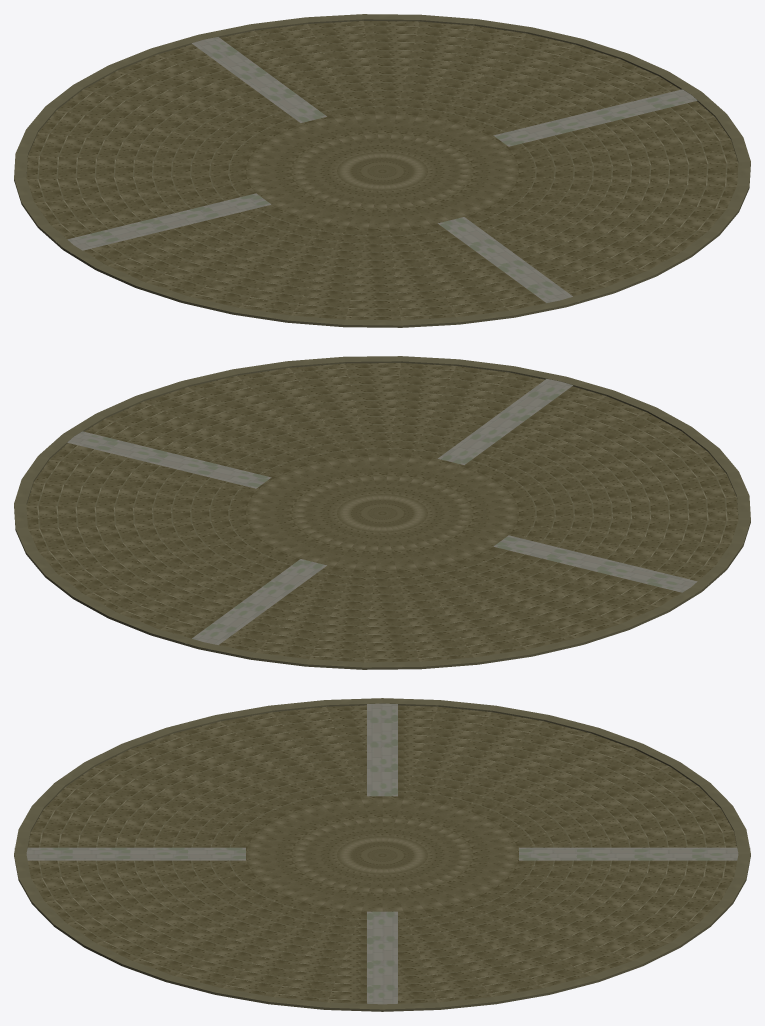
The model's file is city_small_base.glb.
The picture shows the model from 3 angles, top to bottom: view 1: azimuth 30°, elevation 25°; view 2: azimuth 150°, elevation 25°; view 3: azimuth 270°, elevation 25°; orthographic projection.
Parts seen in each view (by area): view 1: ae_forest_city_small_base; view 2: ae_forest_city_small_base; view 3: ae_forest_city_small_base.
Boxes of the visible parts, x1,y1,x2,y2 form: ae_forest_city_small_base: (14,14,750,327); ae_forest_city_small_base: (14,356,750,669); ae_forest_city_small_base: (14,698,750,1011).
Bounding box in the file's own units: 1.77 × 0.00606 × 1.77.
1 material, 1 textured.
